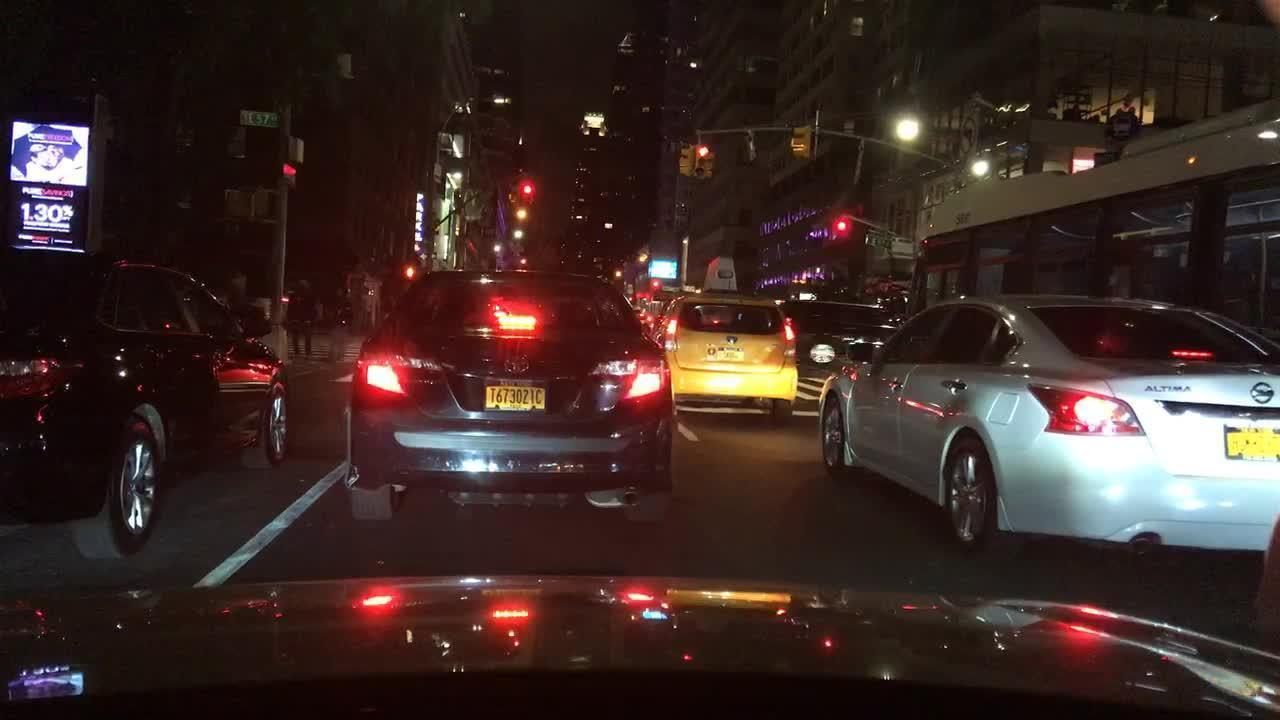Nissan: (1245, 377, 1280, 410)
Toyota: (498, 348, 537, 379)
